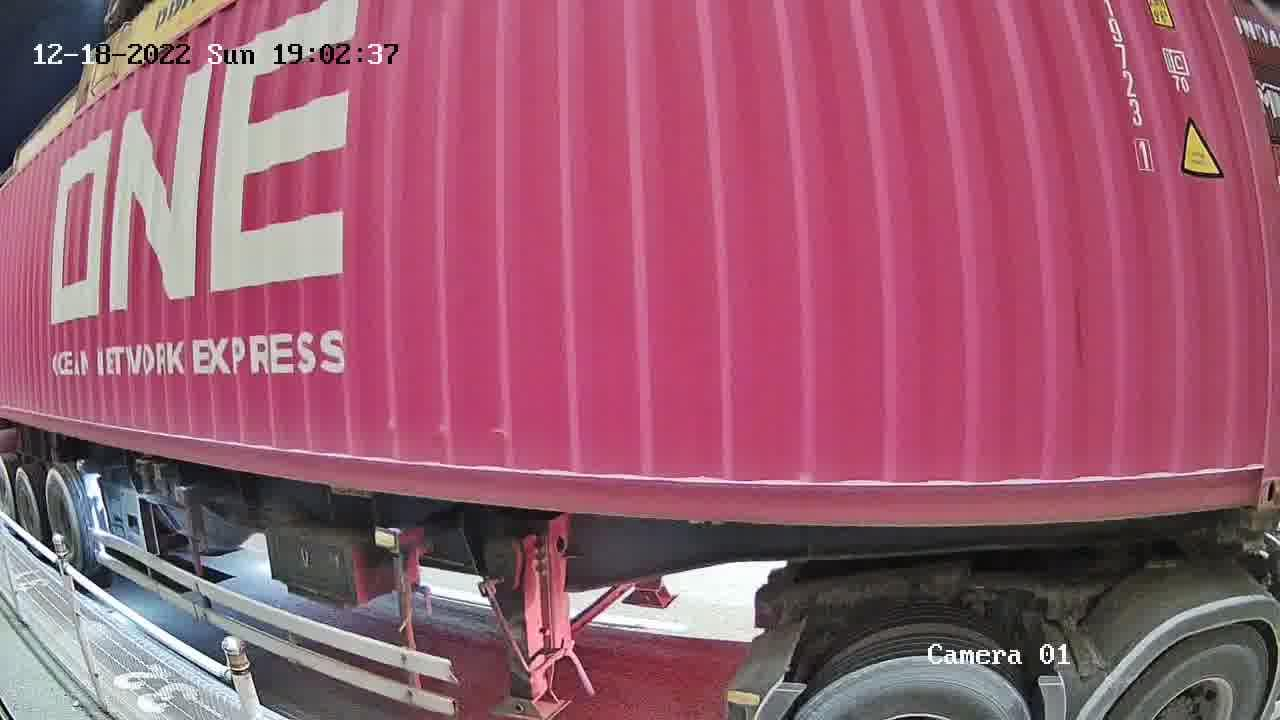Cone: (1230, 509, 1279, 561)
Hole_R: (1214, 423, 1279, 507)
Tire: (798, 657, 1030, 715), (1117, 626, 1269, 713)
